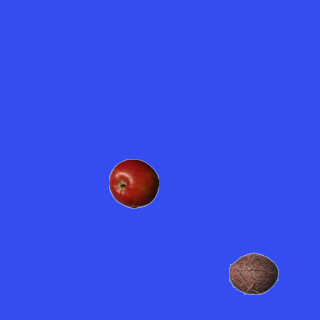Apple Braeburn: (108, 158, 158, 208)
Cocos: (228, 248, 278, 298)
